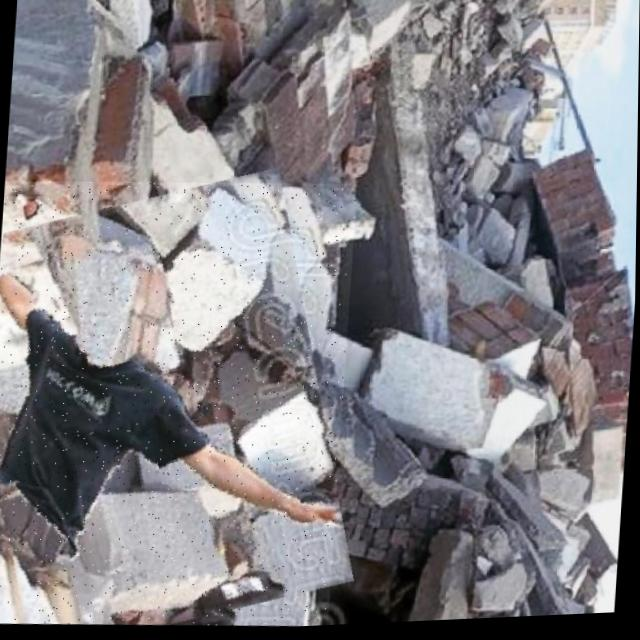Person in Rubble: (0, 168, 357, 640)
